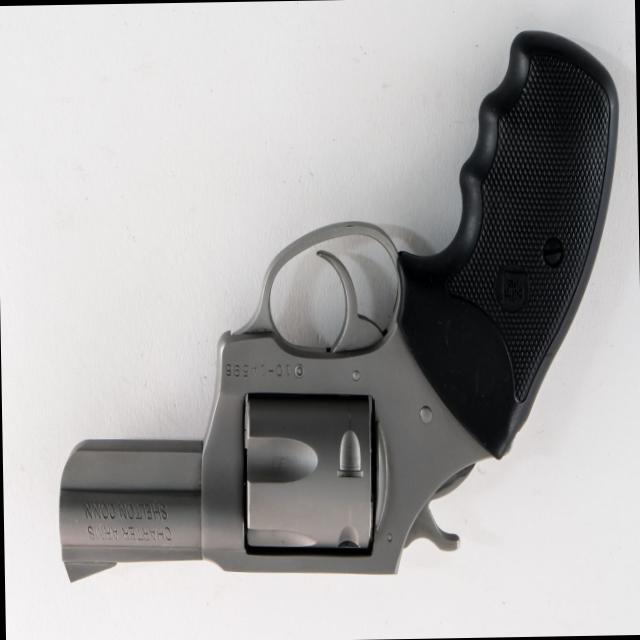Gun: (39, 32, 629, 610)
